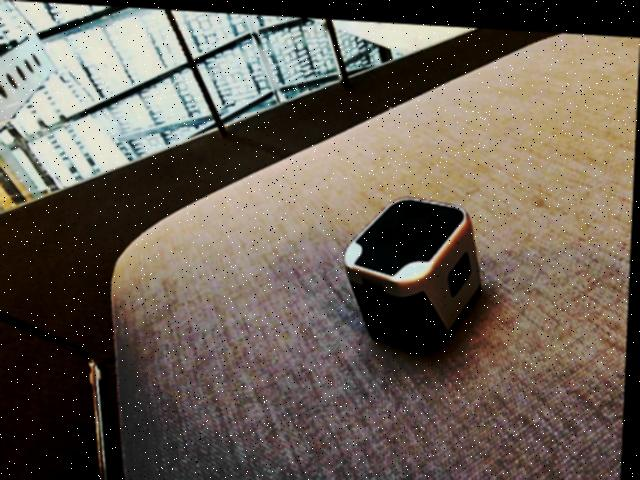adapter: (342, 187, 487, 352)
